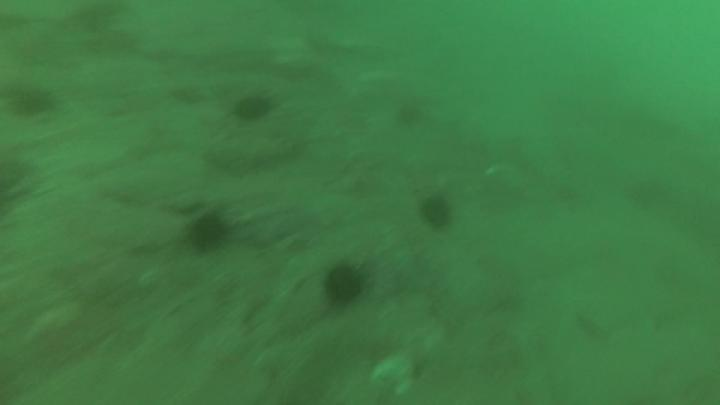echinus: (189, 219, 223, 251), (422, 198, 452, 232), (326, 269, 355, 303), (235, 99, 270, 121)
